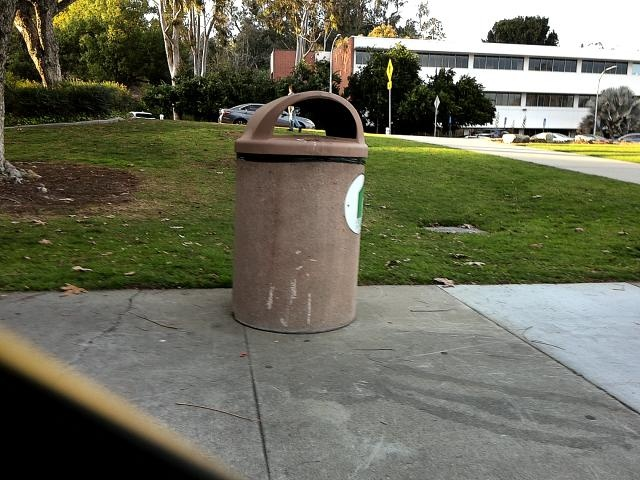trashcan: (226, 85, 378, 345)
